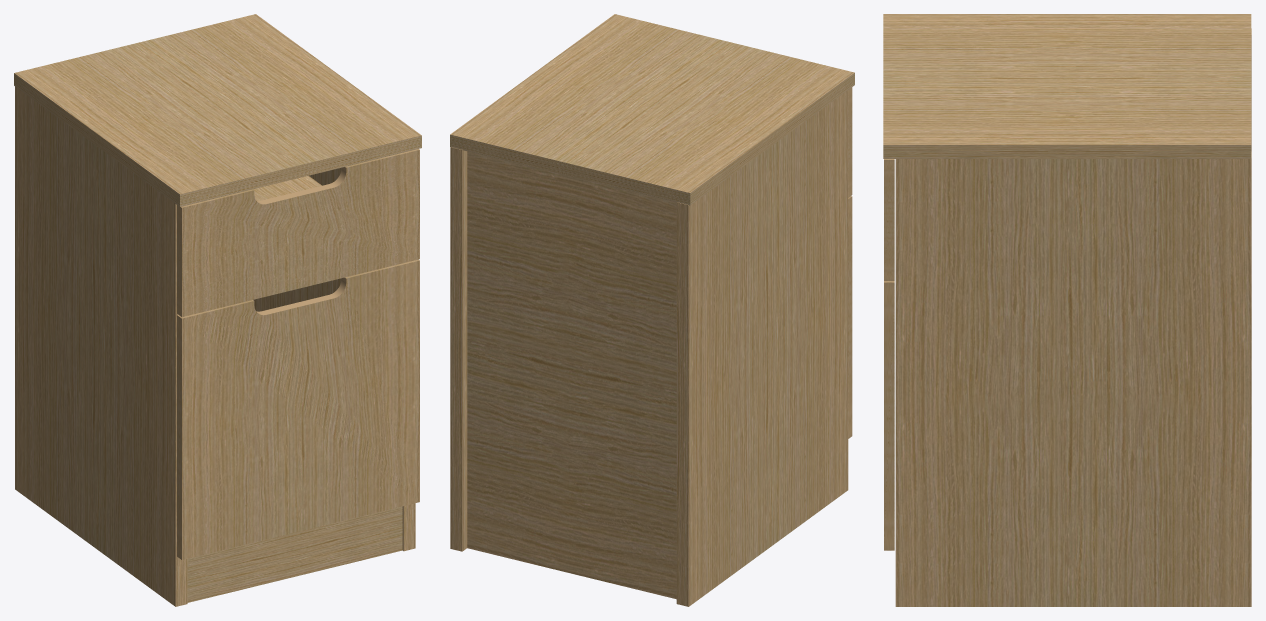
The model's file is Side table.FBX.
3 views of the same model, side by side, from view 1: azimuth 30°, elevation 25°; view 2: azimuth 150°, elevation 25°; view 3: azimuth 270°, elevation 25° (orthographic). The views are drawn at different scales.
Visible parts, largest first — view 1: side table; view 2: side table; view 3: side table.
Part boxes in pixels (x1,y1,x2,y2): side table: [14, 14, 421, 606]; side table: [450, 14, 854, 606]; side table: [883, 14, 1251, 606].
Size of the model in its own units: 39.99 by 65.88 by 47.6.
1 material, 1 textured.
